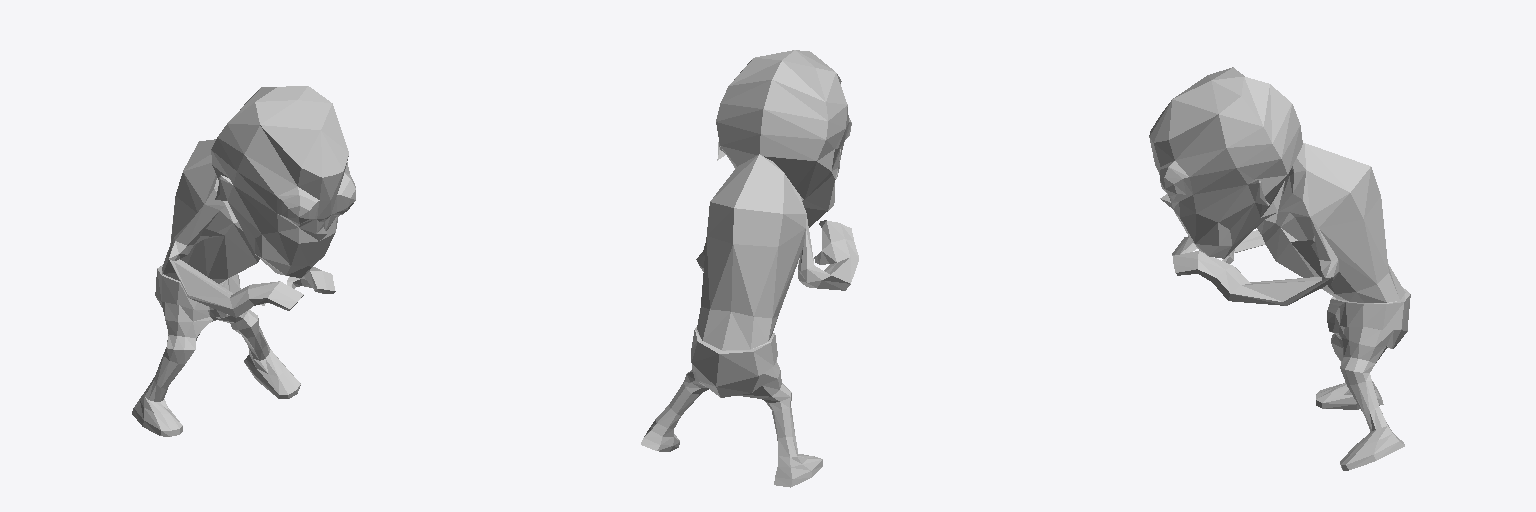
The model's file is GuardianNormal_000034.obj.
3 views of the same model, side by side, from view 1: azimuth 30°, elevation 25°; view 2: azimuth 150°, elevation 25°; view 3: azimuth 270°, elevation 25° (orthographic).
Visible parts, largest first — view 1: untitled2:Mesh1.001; view 2: untitled2:Mesh1.001; view 3: untitled2:Mesh1.001.
Part boxes in pixels (left/top/right/bottom): untitled2:Mesh1.001: left=132, top=86, right=355, bottom=436; untitled2:Mesh1.001: left=641, top=50, right=858, bottom=487; untitled2:Mesh1.001: left=1149, top=67, right=1410, bottom=470.
Bounding box in the file's own units: 6.48 × 14.26 × 9.32.